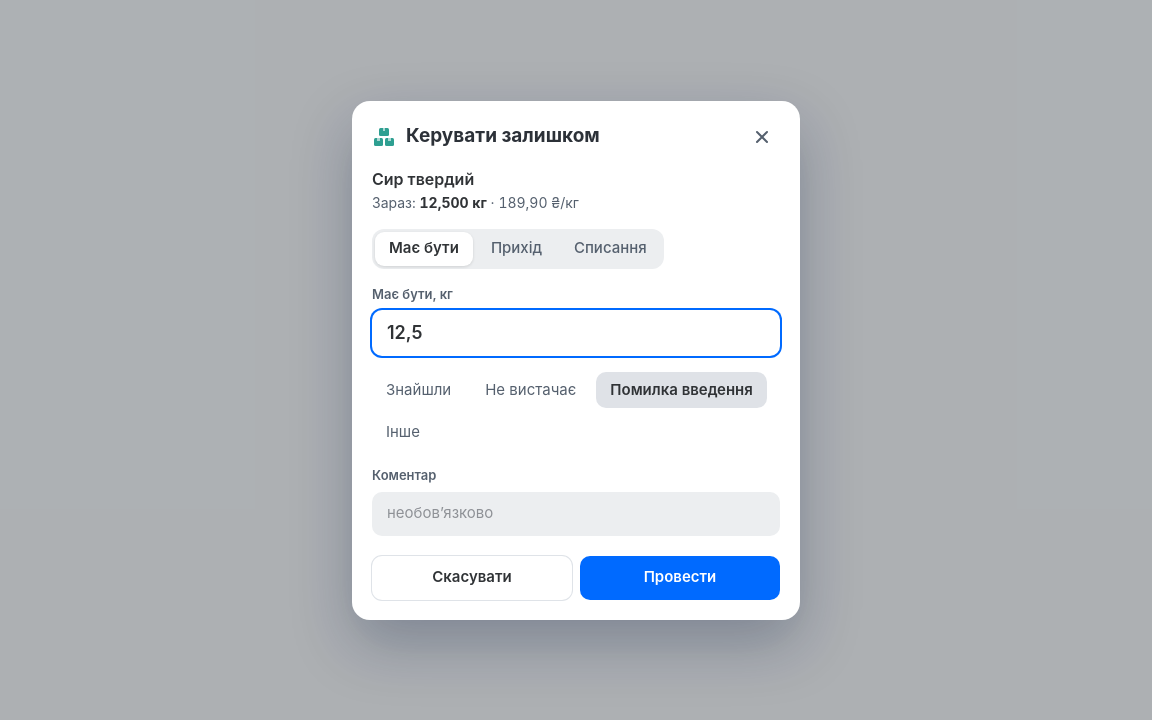
Test case: a variant sold by weight › refuses a weight finer than a gram, in words
Step 1. Click the button "Списання" → [610, 248], box x1=560 y1=232 x2=661 y2=266
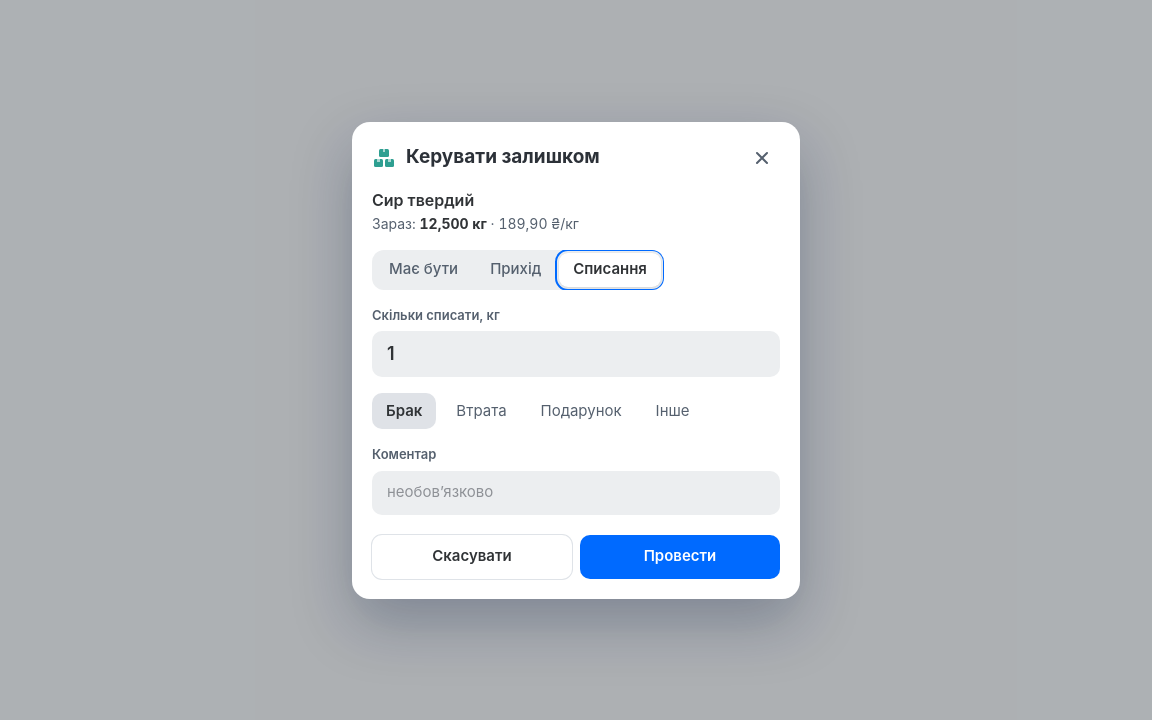
Step 2. Replace the text in the field labelled "Скільки списати, кг" with "1,2345" → [576, 354], box x1=372 y1=331 x2=780 y2=377
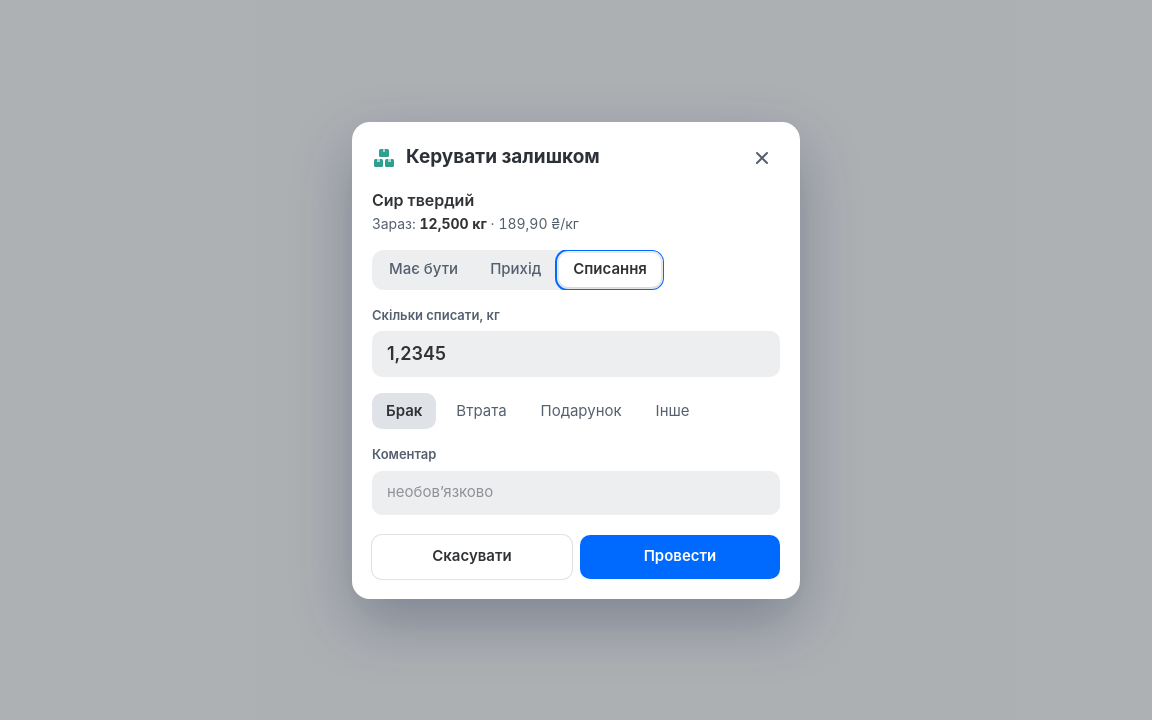
Step 3. Click the button "Провести" → [680, 556], box x1=580 y1=534 x2=780 y2=578
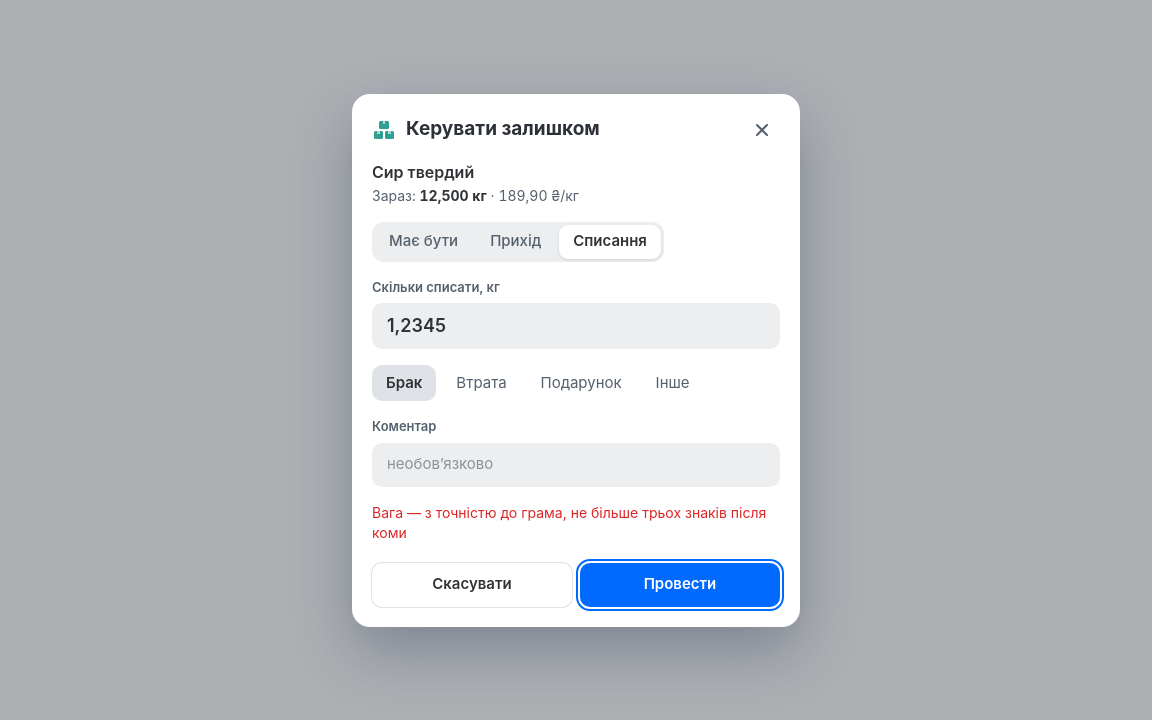
Now the text "з точністю до грама" is shown, box x1=372 y1=504 x2=766 y2=540
